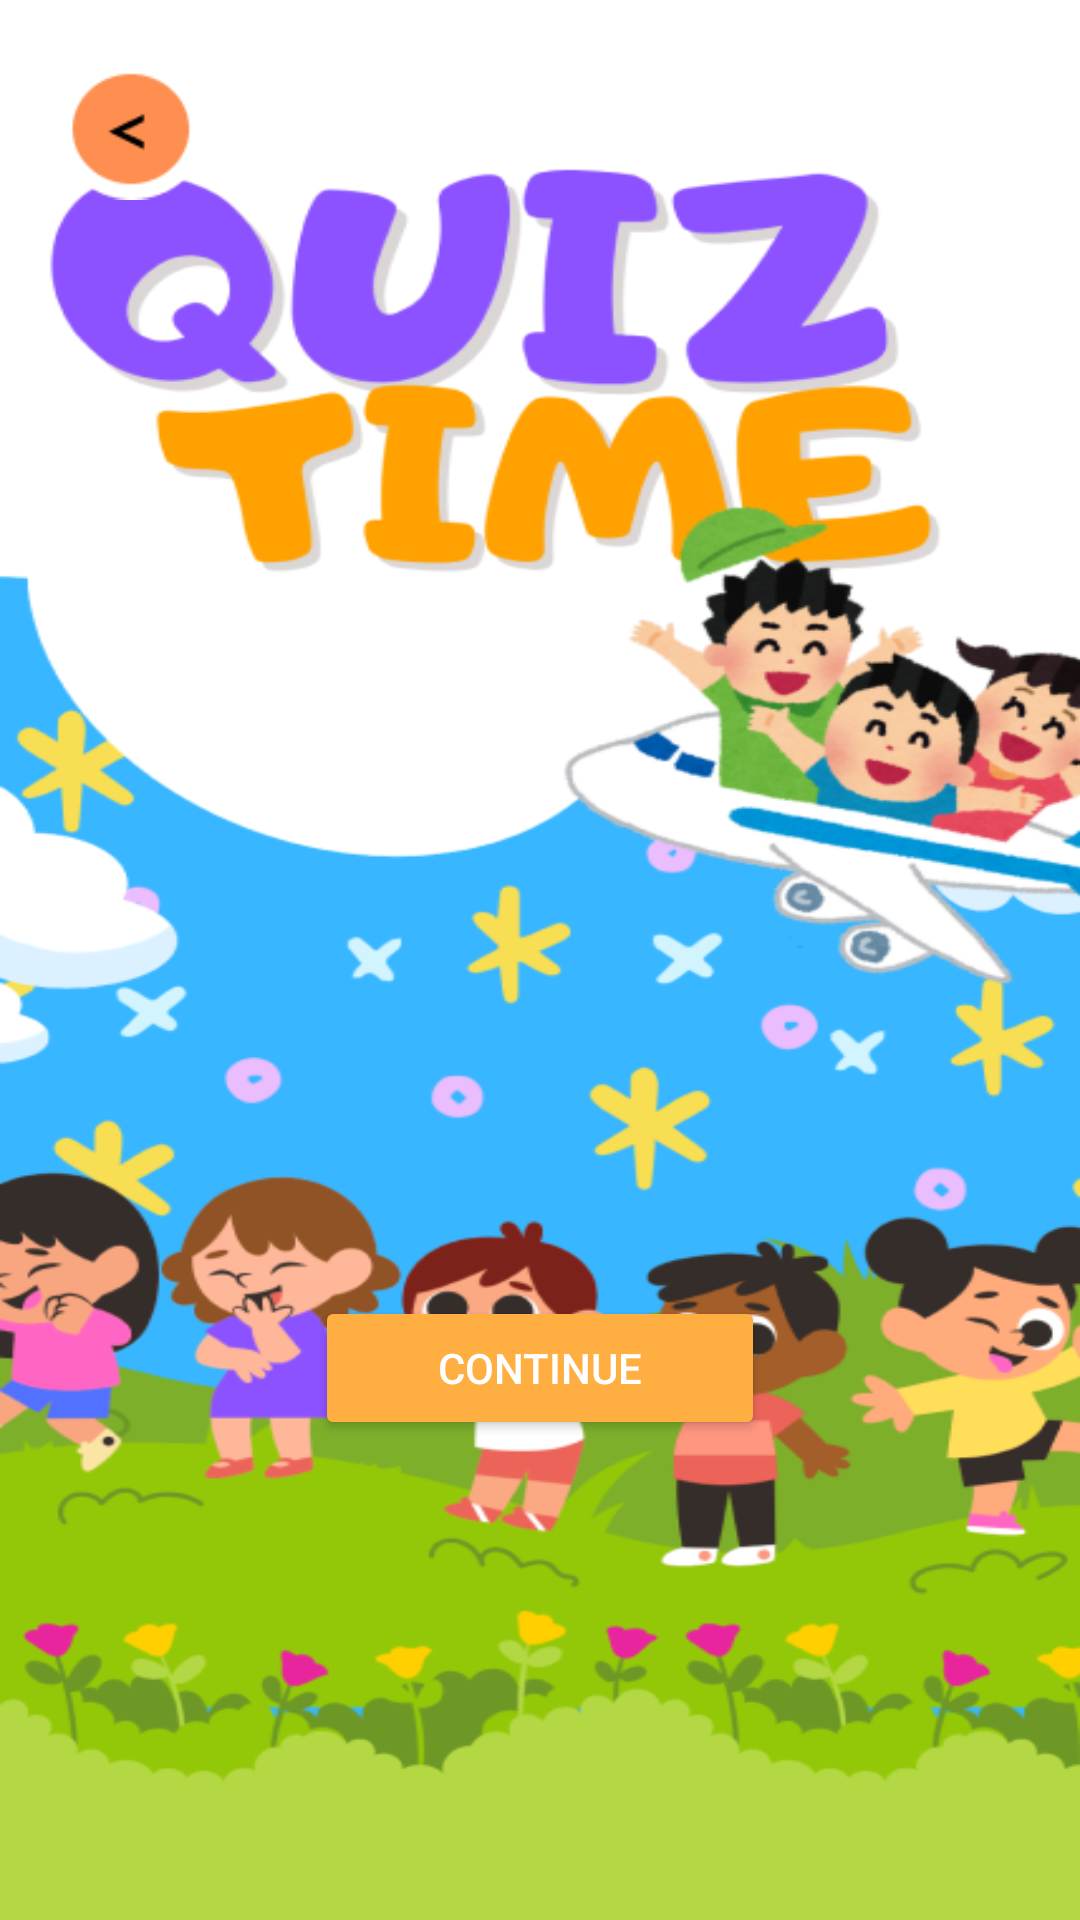

Screen size 1080px x 1920px. Icon name, then its box in pixels as (x1, y1, x2, y2):
Back: (72, 73, 190, 185)
